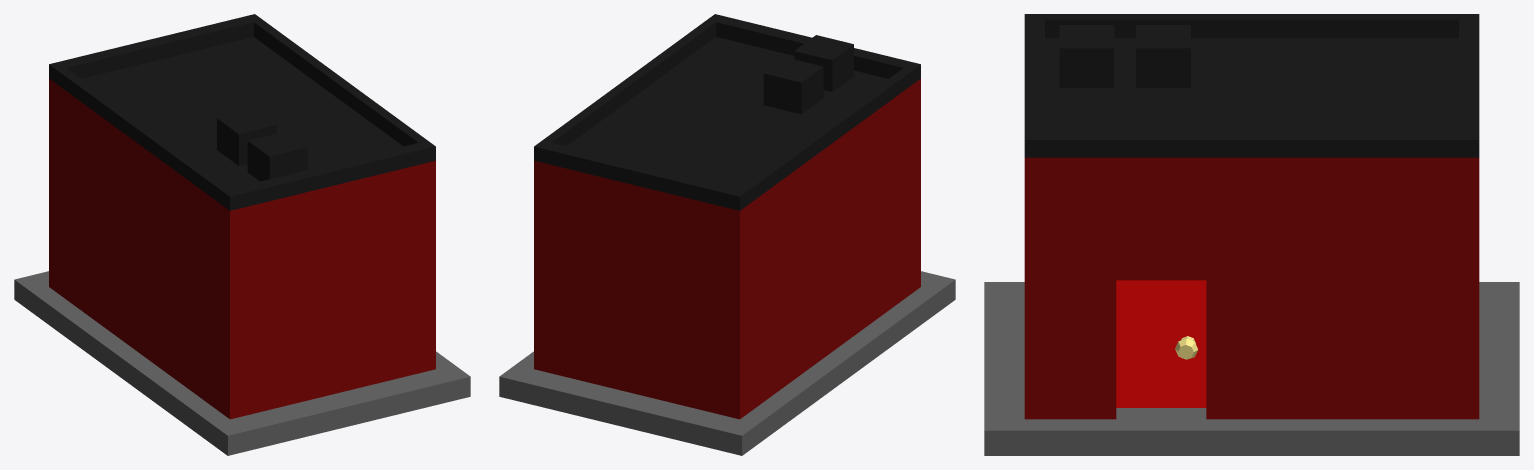
The model's file is Building 7.2.fbx.
The picture shows the model from 3 angles, left to right: view 1: azimuth 30°, elevation 25°; view 2: azimuth 150°, elevation 25°; view 3: azimuth 270°, elevation 25°; orthographic projection. The views are drawn at different scales.
Visible parts, largest first — view 1: Cube; view 2: Cube; view 3: Cube.
Part boxes in pixels (left/top/right/bottom): Cube: left=14, top=14, right=470, bottom=455; Cube: left=499, top=14, right=955, bottom=455; Cube: left=984, top=14, right=1519, bottom=455.
Bounding box in the file's own units: 426 × 436 × 649.
